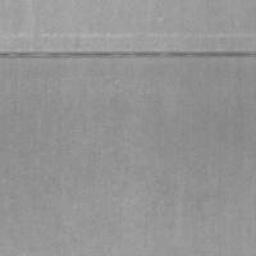Welding line: (0, 50, 256, 60)
